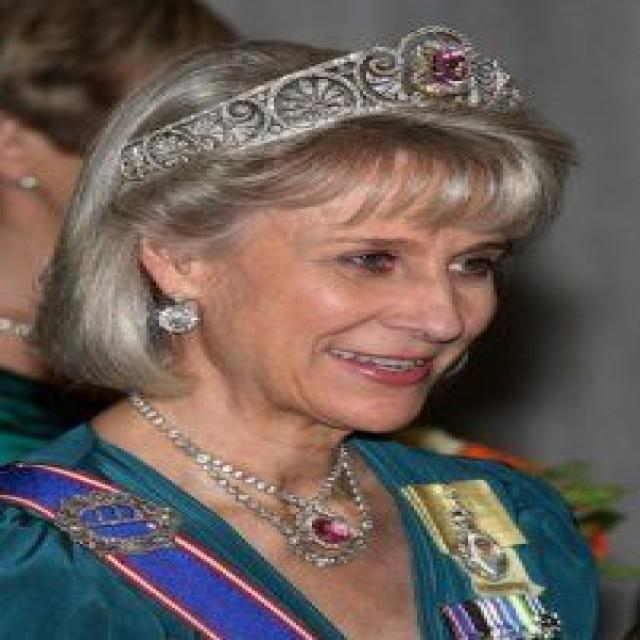Earring: (144, 271, 206, 349)
